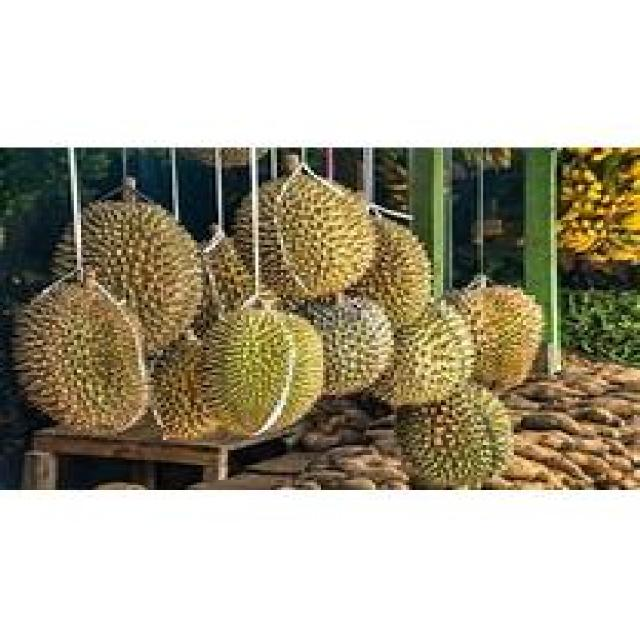fruit: (3, 248, 197, 452), (228, 160, 388, 315), (385, 368, 523, 490)
